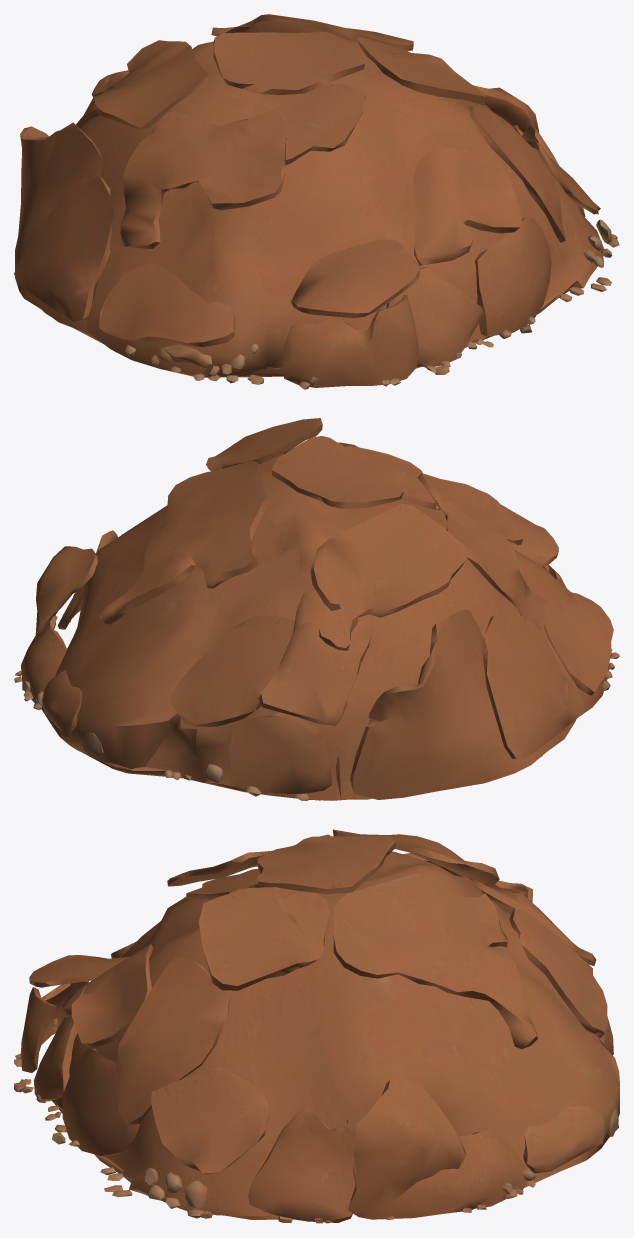
File: resource_clay_0.glb
3 renders of one model, top to bottom at view 1: azimuth 30°, elevation 25°; view 2: azimuth 150°, elevation 25°; view 3: azimuth 270°, elevation 25°, orthographic. The views are drawn at different scales.
Parts seen in each view (by area): view 1: MeshyGear_resource_clay; view 2: MeshyGear_resource_clay; view 3: MeshyGear_resource_clay.
Boxes of the visible parts, left/top/right/bottom form: MeshyGear_resource_clay: left=14, top=14, right=619, bottom=389; MeshyGear_resource_clay: left=14, top=418, right=619, bottom=800; MeshyGear_resource_clay: left=14, top=829, right=619, bottom=1223.
Size of what is drawn, in the model's own units: 2.4 by 1.03 by 2.4.
Materials: 1 (1 with a texture image).
